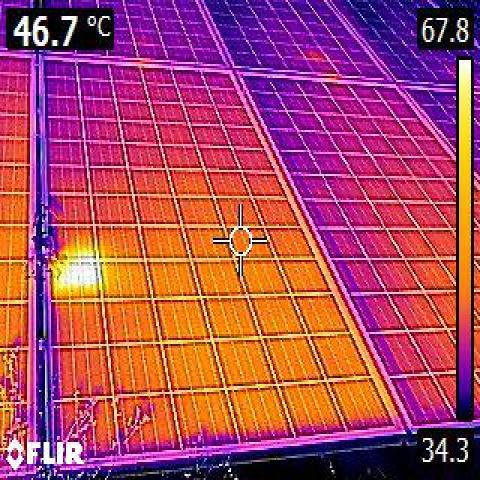fault: (58, 256, 101, 294)
